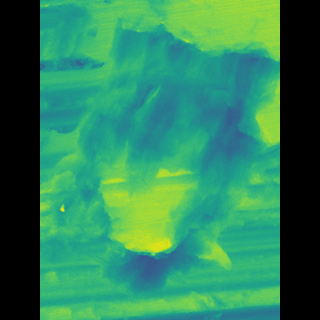Loch: (73, 16, 240, 294)
